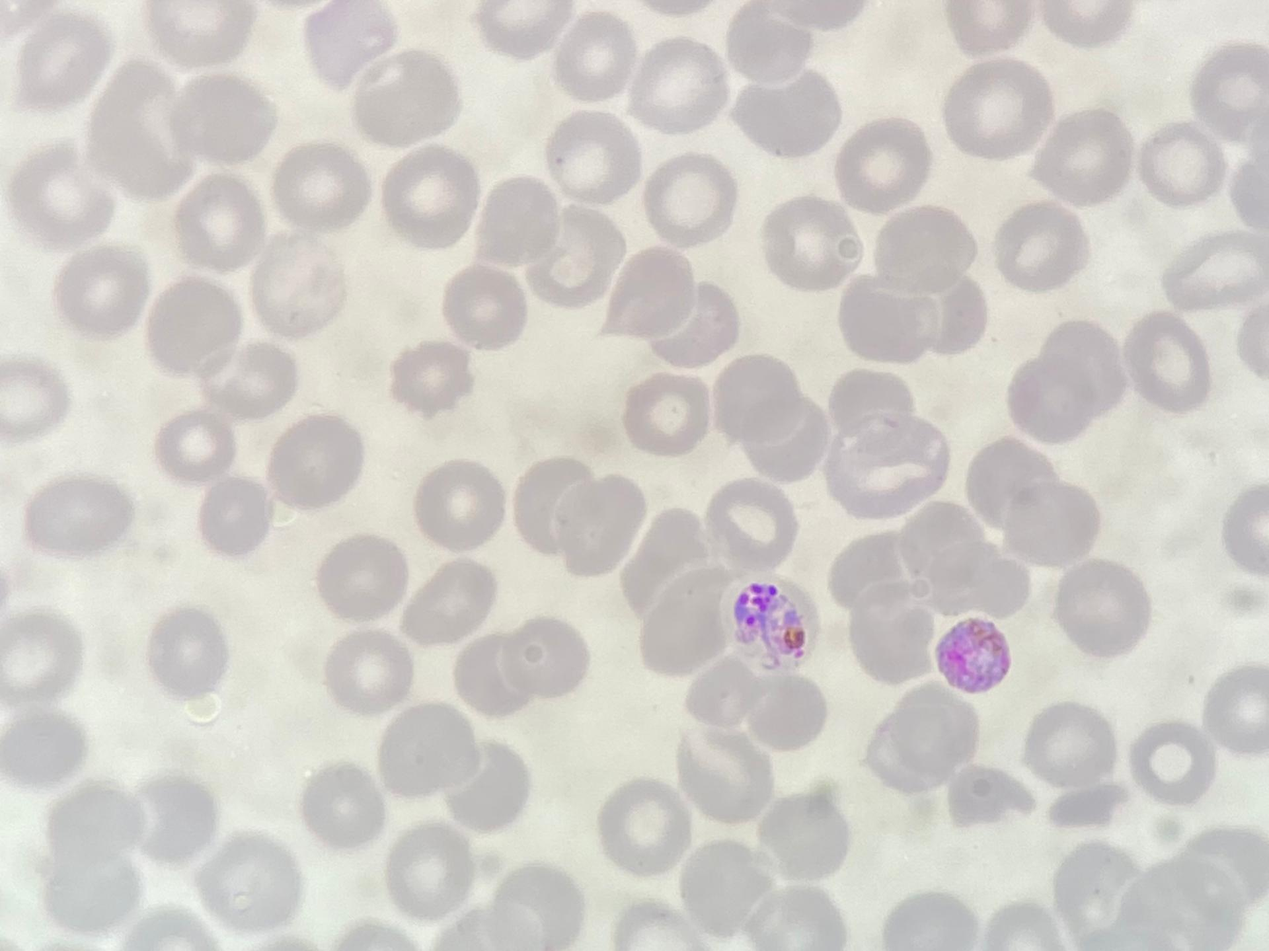Infected: (717, 567, 820, 673), (845, 595, 937, 686), (937, 615, 1011, 694)
Uninfected: (968, 436, 1099, 566), (899, 500, 1035, 621), (1005, 318, 1126, 444), (88, 60, 191, 194), (686, 648, 824, 747), (824, 408, 950, 516), (1110, 849, 1243, 948), (863, 685, 979, 792), (940, 53, 1052, 160), (168, 71, 278, 172), (644, 567, 743, 676), (1031, 106, 1135, 209), (618, 506, 714, 617), (545, 472, 648, 575), (7, 145, 111, 247), (188, 831, 293, 931), (869, 202, 978, 298), (354, 51, 463, 146), (377, 701, 482, 798), (711, 352, 814, 449), (733, 70, 841, 162), (601, 245, 701, 344), (380, 143, 481, 241), (250, 236, 348, 336), (145, 275, 245, 373), (525, 215, 626, 312), (760, 196, 863, 291), (675, 726, 773, 825), (1048, 558, 1146, 657), (264, 415, 364, 512), (627, 38, 728, 133), (677, 837, 773, 936), (1121, 311, 1213, 414), (43, 780, 143, 874), (701, 477, 802, 570), (836, 279, 942, 366), (543, 109, 640, 204), (22, 474, 131, 558), (172, 172, 267, 268), (381, 822, 475, 919), (412, 461, 510, 554), (833, 118, 931, 210), (270, 142, 369, 233), (596, 780, 691, 874), (640, 154, 736, 246), (403, 556, 501, 646), (453, 628, 552, 717), (1162, 227, 1264, 313), (15, 15, 110, 107), (993, 202, 1089, 293), (471, 174, 563, 268), (755, 787, 849, 878), (1024, 699, 1117, 789), (145, 606, 233, 701), (315, 533, 410, 621), (53, 248, 147, 336), (42, 846, 137, 932), (619, 371, 712, 457), (1126, 720, 1216, 806), (322, 630, 414, 714), (496, 617, 588, 701), (724, 7, 818, 89), (648, 284, 736, 371), (739, 402, 828, 488), (135, 775, 221, 863), (441, 263, 530, 348), (553, 13, 640, 99), (1054, 841, 1139, 929), (490, 864, 580, 947), (446, 742, 529, 832), (830, 531, 921, 613), (204, 340, 297, 420), (1190, 41, 1269, 135), (301, 762, 388, 847), (305, 2, 396, 81), (1139, 120, 1223, 204), (0, 611, 79, 700), (744, 882, 846, 950), (0, 707, 87, 785), (151, 3, 249, 68), (198, 476, 277, 556), (1186, 826, 1268, 903), (826, 366, 917, 435), (155, 410, 239, 484), (1202, 665, 1269, 755), (389, 343, 471, 415), (942, 761, 1033, 825), (0, 354, 69, 435), (923, 278, 989, 356), (477, 1, 568, 56), (1227, 147, 1269, 241)
